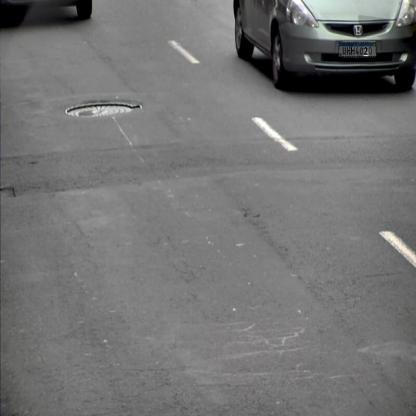PlacaM: (338, 42, 376, 57)
